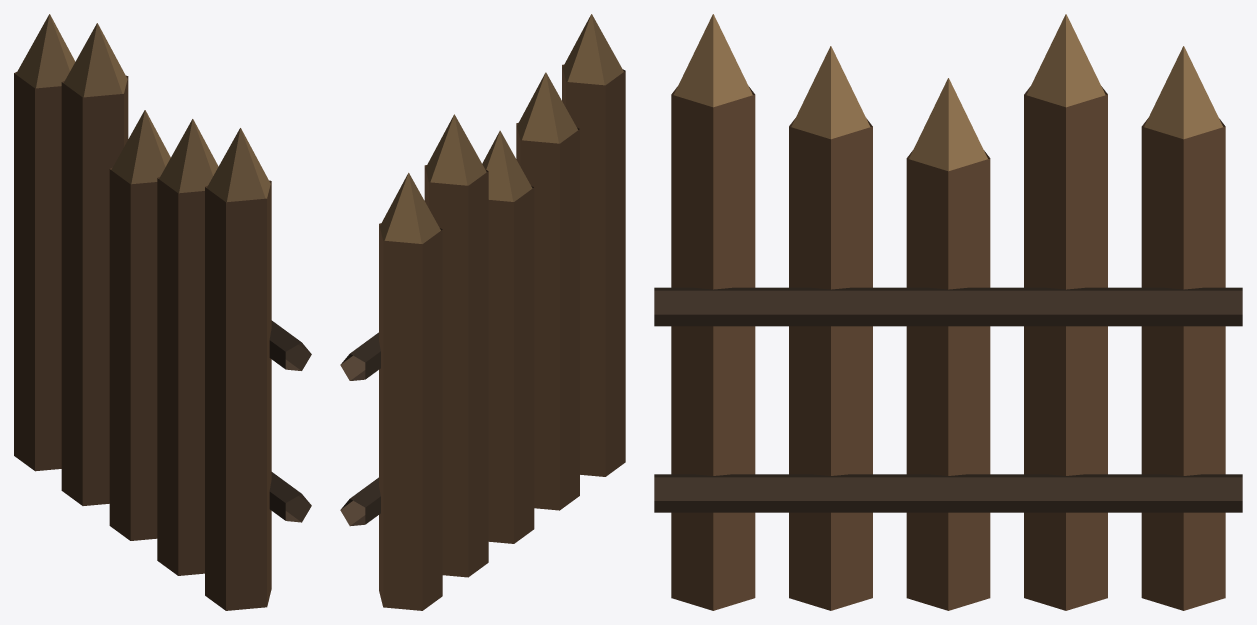
The picture shows the model from 3 angles, left to right: view 1: azimuth 30°, elevation 25°; view 2: azimuth 150°, elevation 25°; view 3: azimuth 270°, elevation 25°; orthographic projection. The views are drawn at different scales.
Visible parts, largest first — view 1: 5d77af167676258d3b4a659954ea1a3c96028ca4fc9622232b0128ff4ecd; view 2: 5d77af167676258d3b4a659954ea1a3c96028ca4fc9622232b0128ff4ecd; view 3: 5d77af167676258d3b4a659954ea1a3c96028ca4fc9622232b0128ff4ecd.
Boxes of the visible parts, left/top/right/bottom form: 5d77af167676258d3b4a659954ea1a3c96028ca4fc9622232b0128ff4ecd: left=14, top=14, right=311, bottom=610; 5d77af167676258d3b4a659954ea1a3c96028ca4fc9622232b0128ff4ecd: left=340, top=14, right=625, bottom=610; 5d77af167676258d3b4a659954ea1a3c96028ca4fc9622232b0128ff4ecd: left=654, top=14, right=1242, bottom=610.
Size of the model in its own units: 0.3513 by 2.17 by 2.
1 material, 1 textured.
